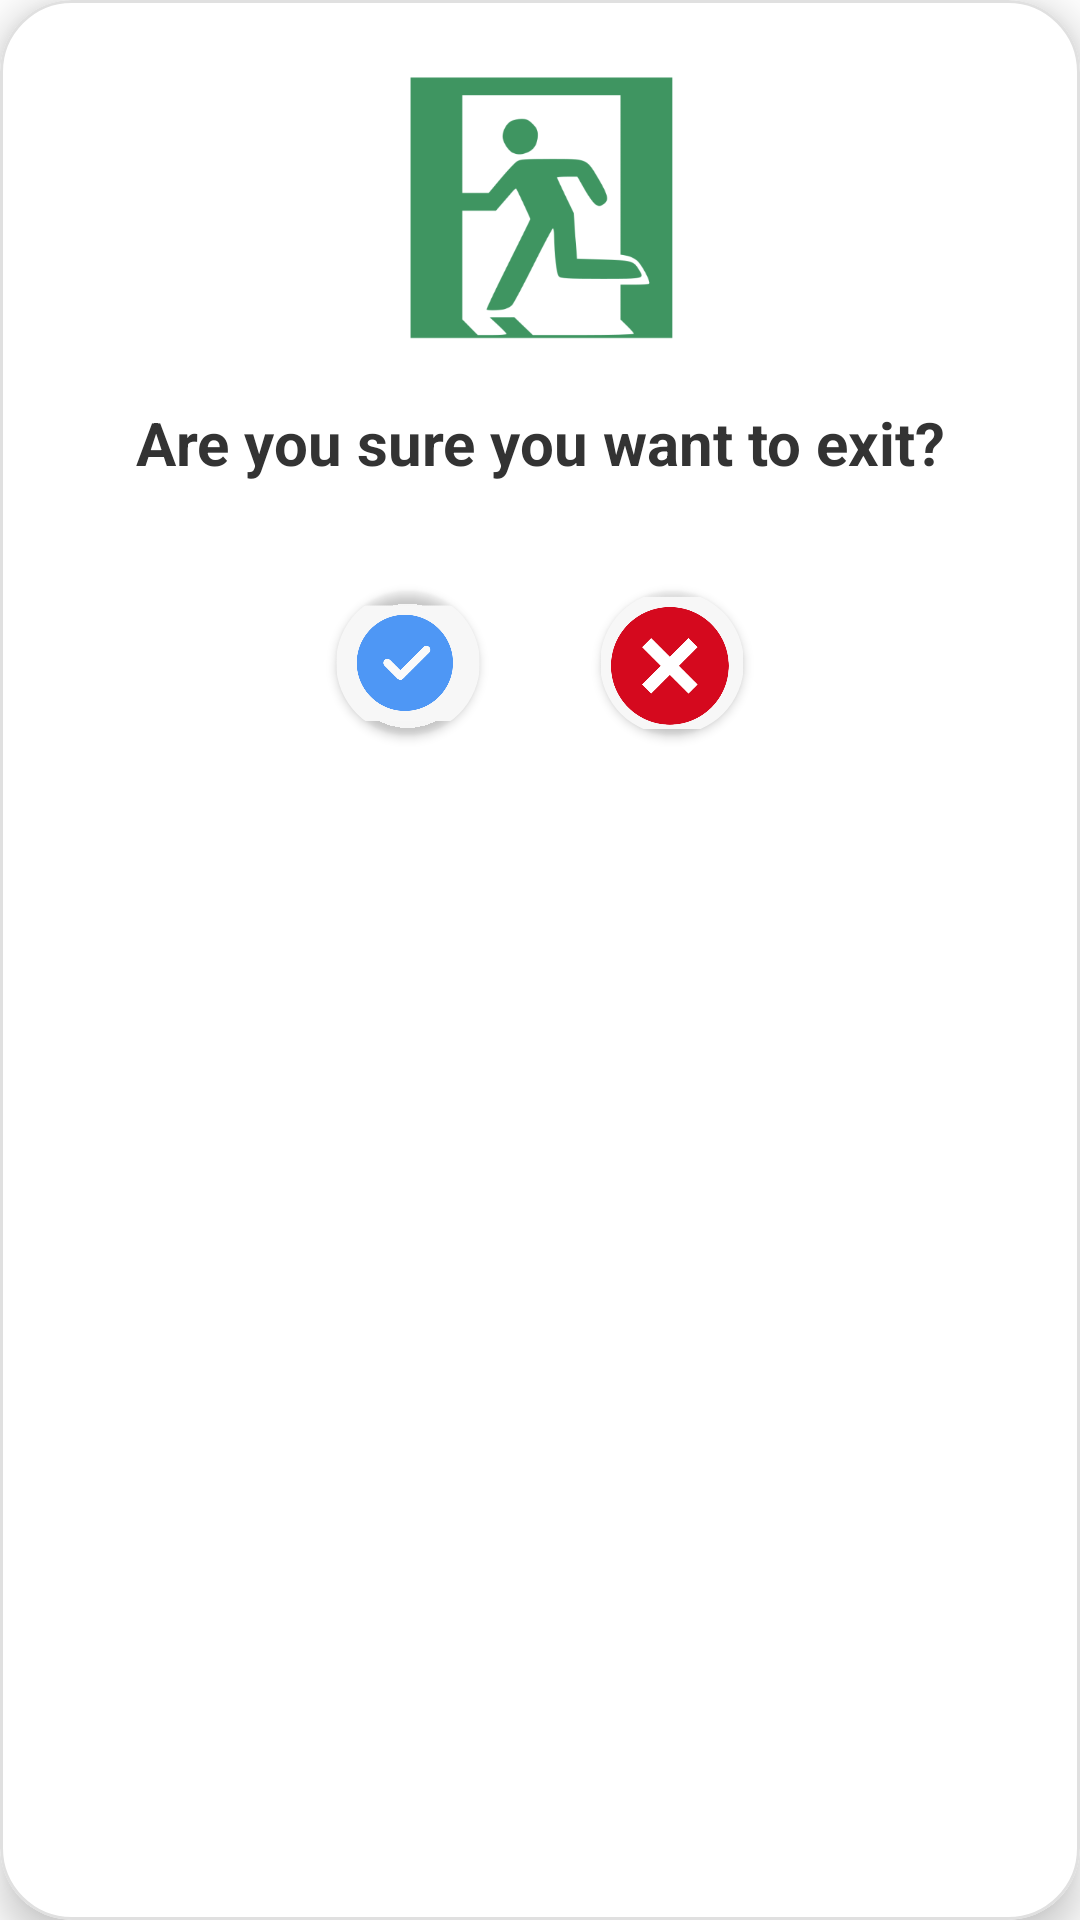

Screen size 1080px x 1920px. Icon name, then its box in pixels as (x1, y1, x2, y2):
yes: (338, 594, 465, 736)
